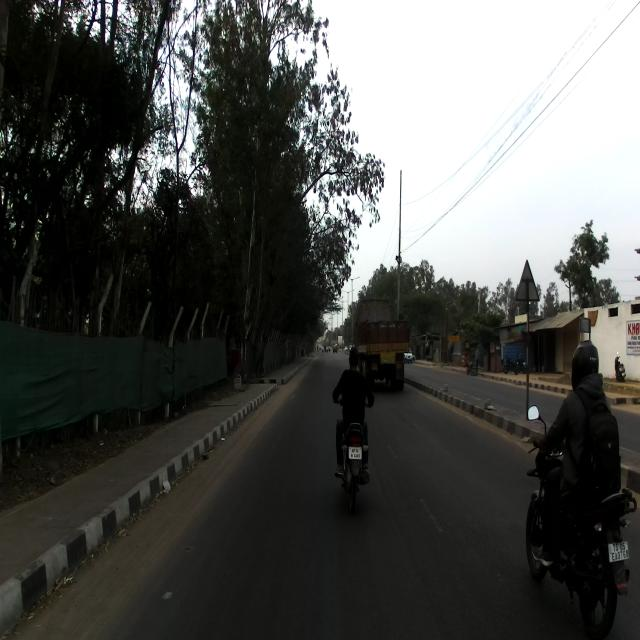motorcycle ahead at: (525, 480, 640, 639), (332, 409, 376, 514)
truck ahead at: (360, 293, 413, 382)
